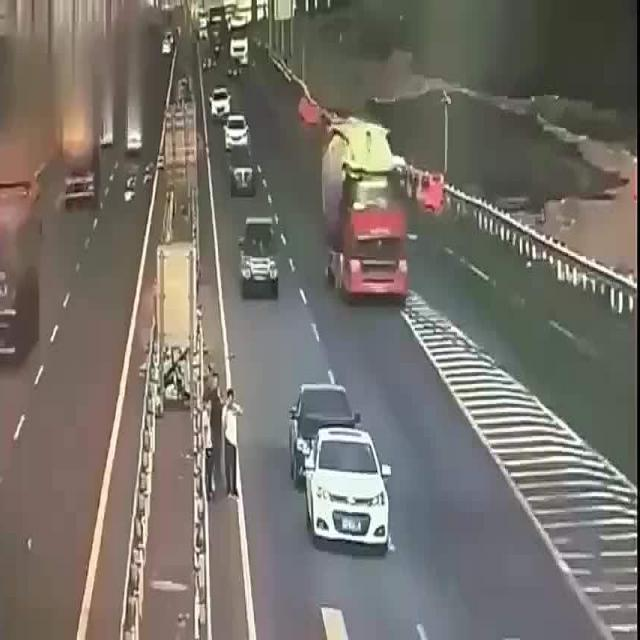point: (176, 0, 284, 157)
